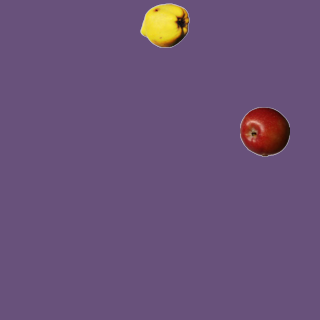Apple Braeburn: (239, 106, 289, 156)
Quince: (139, 0, 189, 50)
